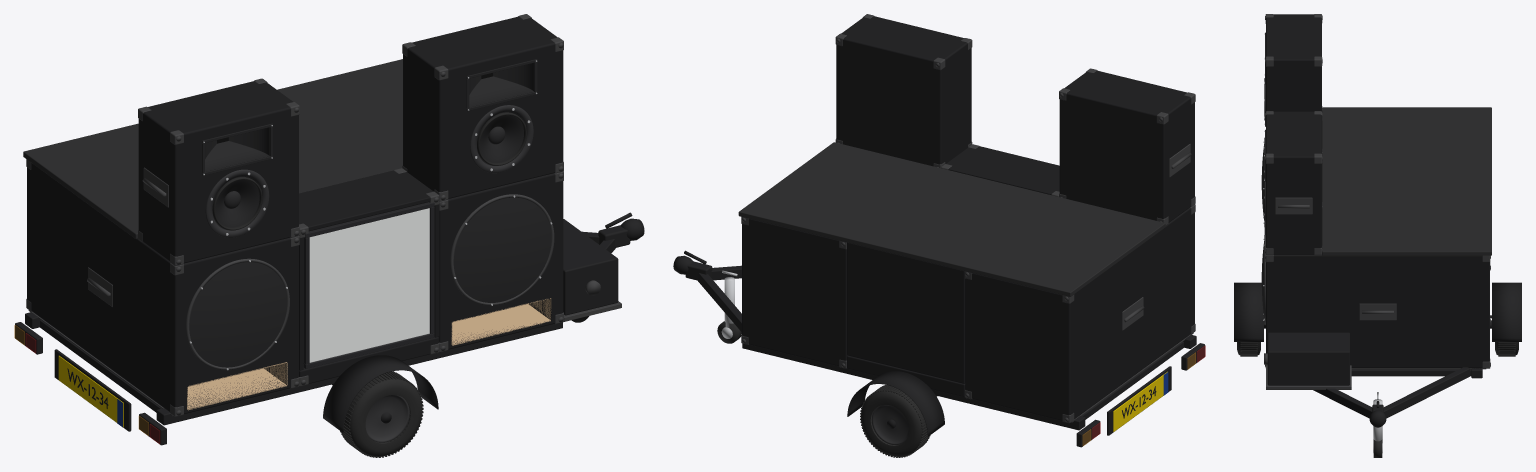
File: speaker_trailer.glb
The picture shows the model from 3 angles, left to right: view 1: azimuth 30°, elevation 25°; view 2: azimuth 150°, elevation 25°; view 3: azimuth 270°, elevation 25°; orthographic projection. The views are drawn at different scales.
Visible parts, largest first — view 1: L_sub, R_top, desk_top, L_top, panel_front_film, panel_front_glass, L_sub_grille, R_sub_grille, R_sub, C_top_plate, fog_machine, tyre (+23 smaller); view 2: desk_top, L_sub, R_top, L_top, C_rear, R_sub, C_top_plate, tyre.001, mudguard.001, chassis_rail.001, C_plinth, rim.001 (+4 smaller); view 3: desk_top, R_sub, R_top, L_top, fog_machine, mudguard.001, mudguard, drawbar.001, chassis_cross.002, drawbar, R_top_handle_out_dish, R_sub_handle_out_dish (+1 smaller).
Part boxes in pixels (x1,y1,x2,y2): L_sub: [27, 163, 298, 413]; R_top: [403, 16, 563, 198]; desk_top: [23, 59, 402, 238]; L_top: [138, 81, 298, 263]; panel_front_film: [309, 208, 429, 362]; panel_front_glass: [310, 208, 429, 362]; L_sub_grille: [189, 262, 287, 367]; R_sub_grille: [453, 197, 551, 302]; R_sub: [438, 173, 563, 349]; C_top_plate: [299, 170, 433, 230]; fog_machine: [563, 219, 618, 315]; tyre: [343, 373, 422, 456]; desk_top: [738, 142, 1165, 296]; L_sub: [965, 207, 1194, 420]; R_top: [836, 16, 971, 166]; L_top: [1059, 70, 1194, 222]; C_rear: [847, 242, 965, 383]; R_sub: [742, 218, 847, 366]; C_top_plate: [946, 146, 1059, 194]; tyre.001: [861, 386, 927, 456]; mudguard.001: [847, 371, 944, 436]; chassis_rail.001: [742, 343, 1085, 430]; C_plinth: [847, 355, 965, 396]; rim.001: [872, 404, 908, 444]; desk_top: [1322, 107, 1491, 255]; R_sub: [1266, 254, 1489, 368]; R_top: [1266, 111, 1321, 254]; L_top: [1266, 14, 1321, 111]; fog_machine: [1267, 332, 1349, 385]; mudguard.001: [1492, 282, 1521, 341]; mudguard: [1234, 282, 1263, 341]; drawbar.001: [1383, 367, 1470, 418]; chassis_cross.002: [1351, 369, 1471, 376]; drawbar: [1313, 388, 1372, 418]; R_top_handle_out_dish: [1275, 197, 1312, 214]; R_sub_handle_out_dish: [1359, 303, 1396, 320].
Size of the model in its own units: 2.58 by 1.59 by 1.54.
